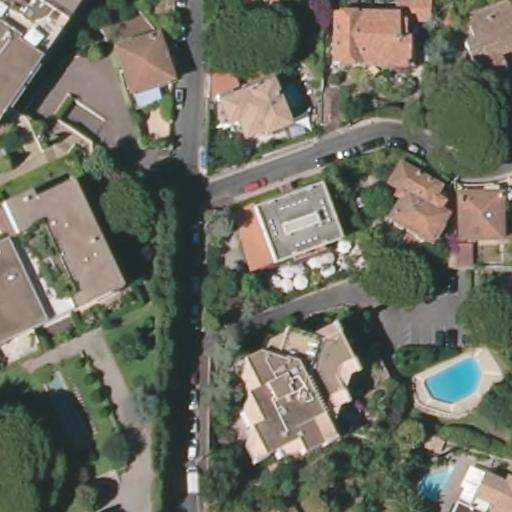pool: (422, 352, 483, 409), (412, 459, 453, 500)
